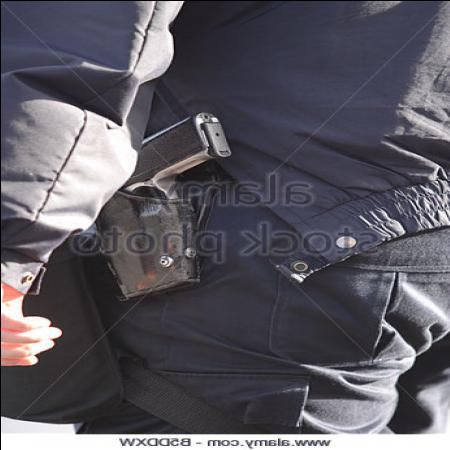Pistol: (87, 107, 237, 300)
